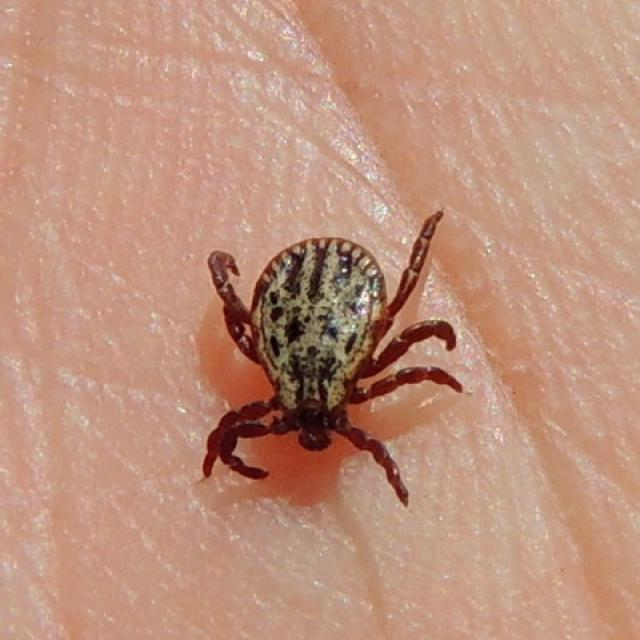Dermacentor Reticulatus-M: (201, 215, 464, 506)
